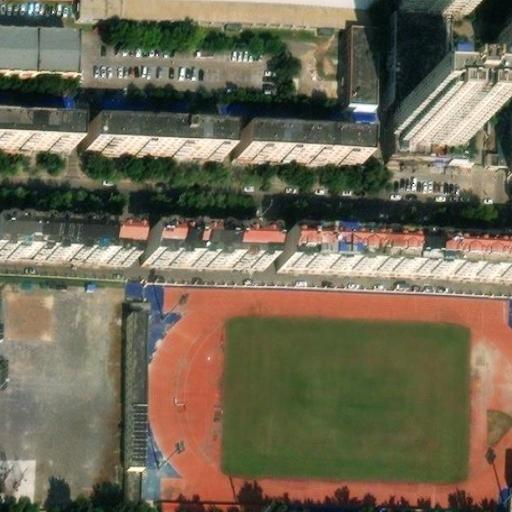building: (287, 219, 512, 264), (77, 0, 374, 19), (0, 211, 133, 252), (394, 4, 451, 89), (147, 216, 268, 254), (93, 120, 236, 147), (244, 126, 369, 156), (127, 306, 151, 461), (0, 21, 82, 63), (402, 95, 470, 132), (350, 18, 382, 96), (157, 498, 208, 512)
